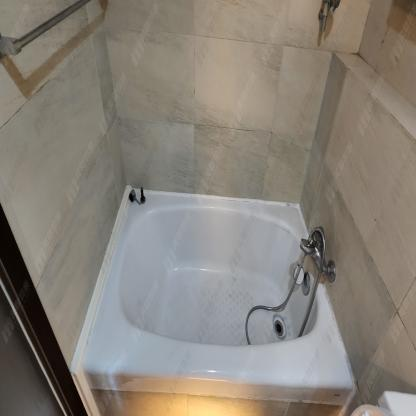Bathtub: (75, 180, 359, 416)
